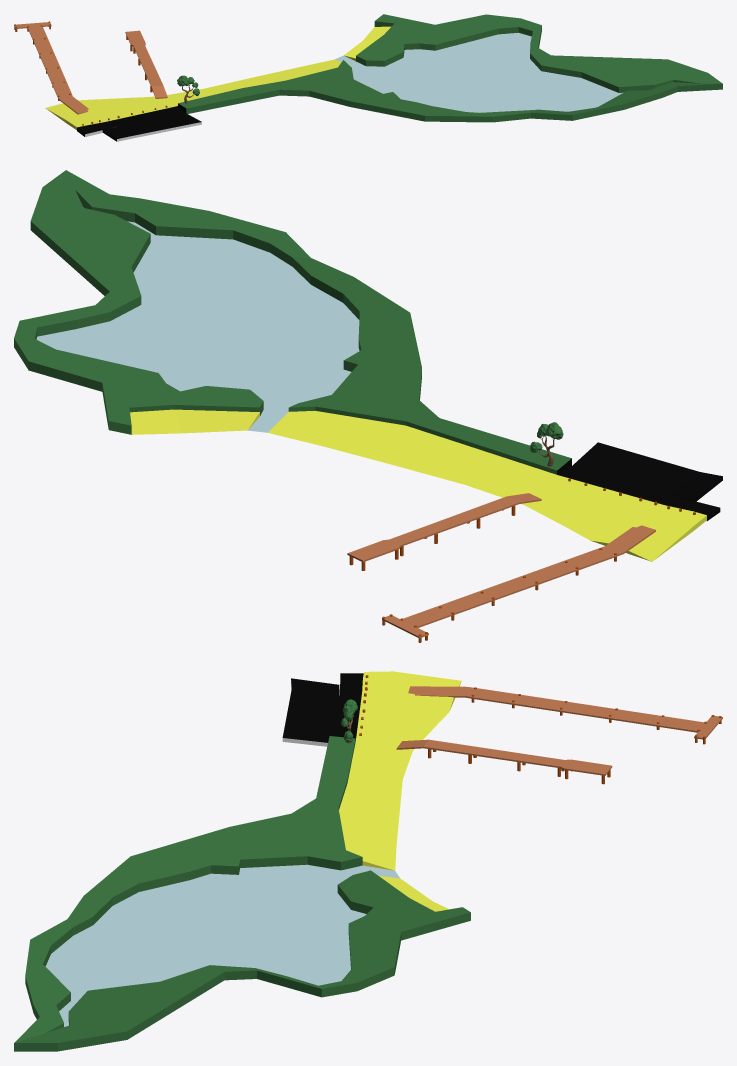
Rendered from ulakeclaire.glb.
3 views of the same model, one above another, from view 1: azimuth 30°, elevation 25°; view 2: azimuth 150°, elevation 25°; view 3: azimuth 270°, elevation 25° (orthographic). The views are drawn at different scales.
Parts seen in each view (by area): view 1: Pine_2__Plane.001, Pine_2__Plane.002; view 2: Pine_2__Plane.001, Pine_2__Plane.002; view 3: Pine_2__Plane.001, Pine_2__Plane.002.
Boxes of the visible parts, x1=… form: Pine_2__Plane.001: x1=14, y1=14, x2=722, y2=129; Pine_2__Plane.002: x1=77, y1=107, x2=201, y2=141; Pine_2__Plane.001: x1=14, y1=170, x2=706, y2=642; Pine_2__Plane.002: x1=559, y1=442, x2=722, y2=520; Pine_2__Plane.001: x1=14, y1=671, x2=722, y2=1051; Pine_2__Plane.002: x1=282, y1=673, x2=363, y2=746.
Bounding box in the file's own units: 0.6049 × 0.0404 × 0.4823.
